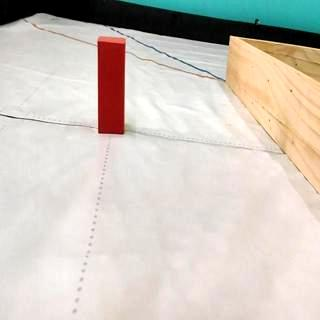redbox: (96, 35, 126, 136)
